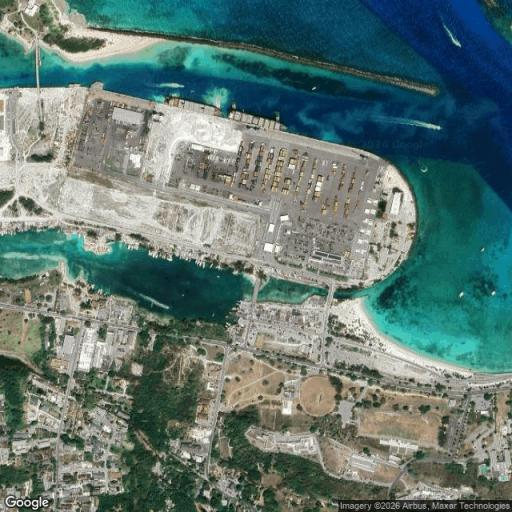ship: (375, 111, 459, 140), (227, 109, 289, 130), (164, 95, 222, 115), (67, 83, 80, 88), (198, 259, 204, 269), (195, 259, 202, 267), (201, 260, 207, 269), (209, 262, 214, 270)
